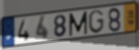4: (35, 14, 50, 42), (17, 19, 31, 42)
8: (108, 6, 122, 33), (53, 14, 67, 38)
G: (87, 9, 105, 34)
M: (69, 11, 89, 38)
